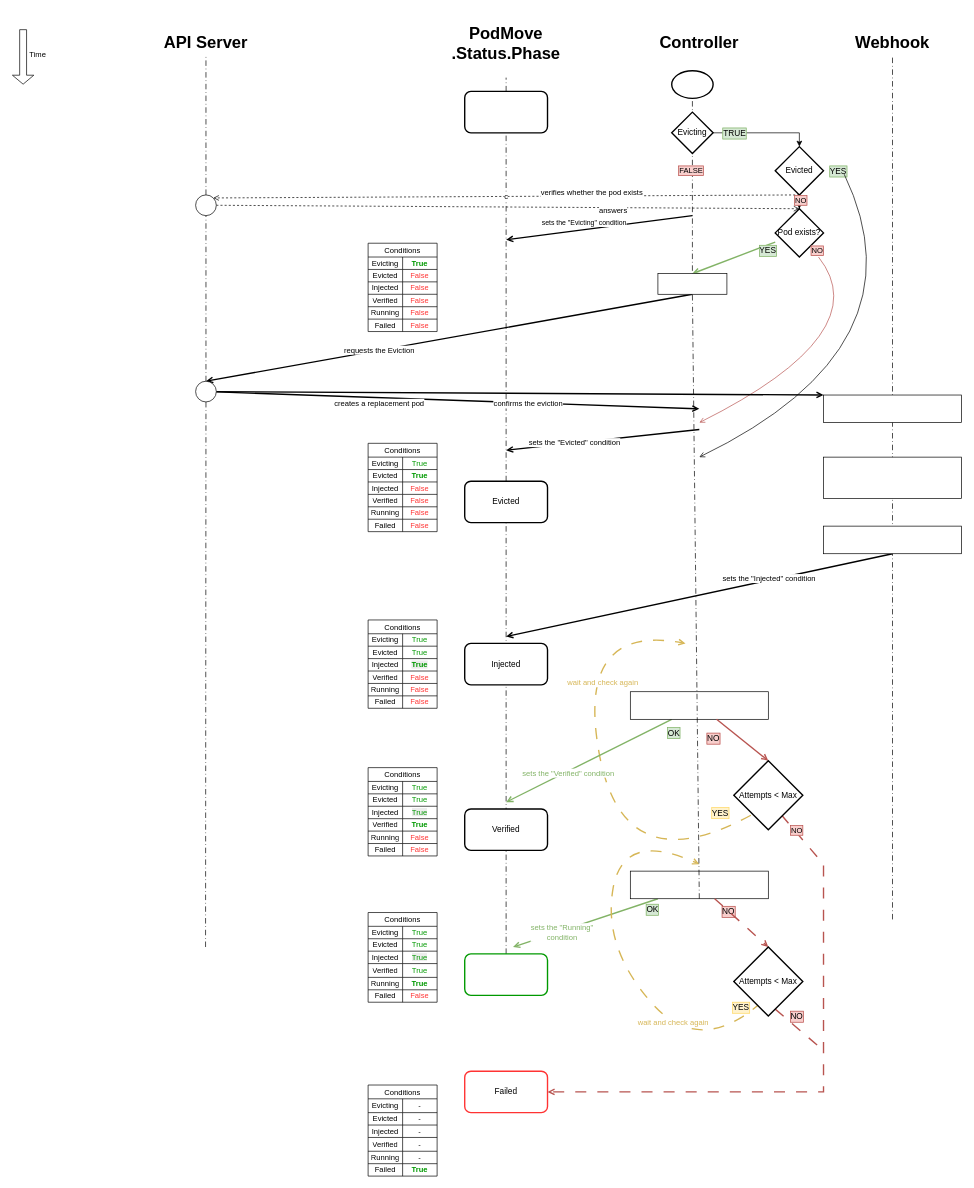
Image size: 974x1188. Some labels were removed from this diagram. The shapes that lost their labels are listed below. From the top down, each one's centre as x and y in pixels, then its label:
(506,111): Pending
(692,283): Evicts the Pod
(892,408): Receives a Pod Create request
(892,477): Looks for a "Evicted" PodMove for the pod controller owner
(892,539): Injects the target node
(699,705): Verifies the replacement pod persisted on the target Node
(699,884): Verifies the replacement pod status on the target Node is "Running"
(506,974): Succede d
